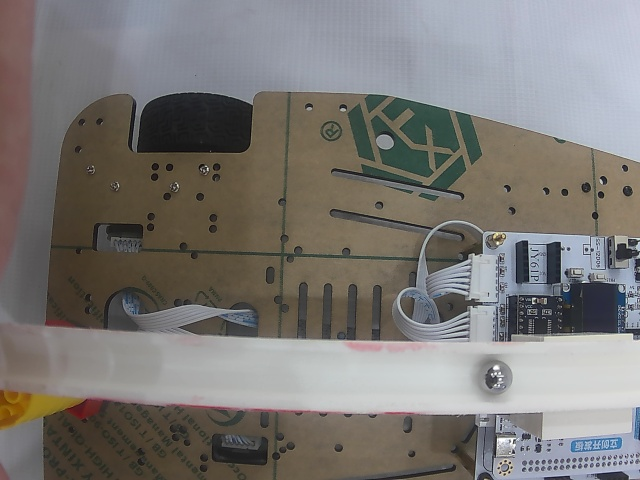steelball: (477, 360, 513, 394)
